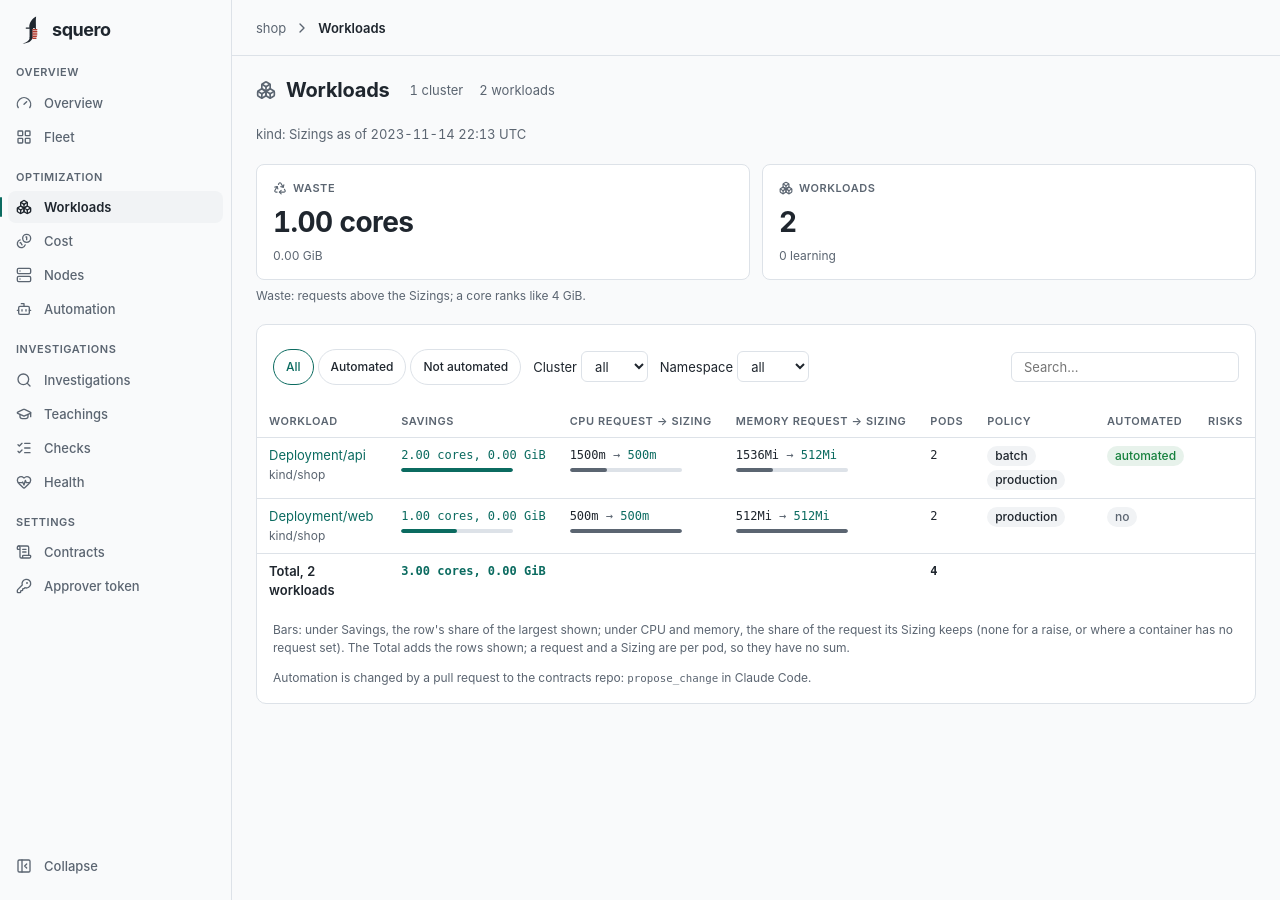
Scenario: the table shows request → Sizing, the policies and Automation; chips and search filter it
expect the button "Deployment/api" is shown: met, box [269, 446, 366, 466]
expect the cell "no" is shown: met, box [1095, 499, 1196, 552]
Click the button "Not automated" at (466, 366), box [410, 348, 521, 384]
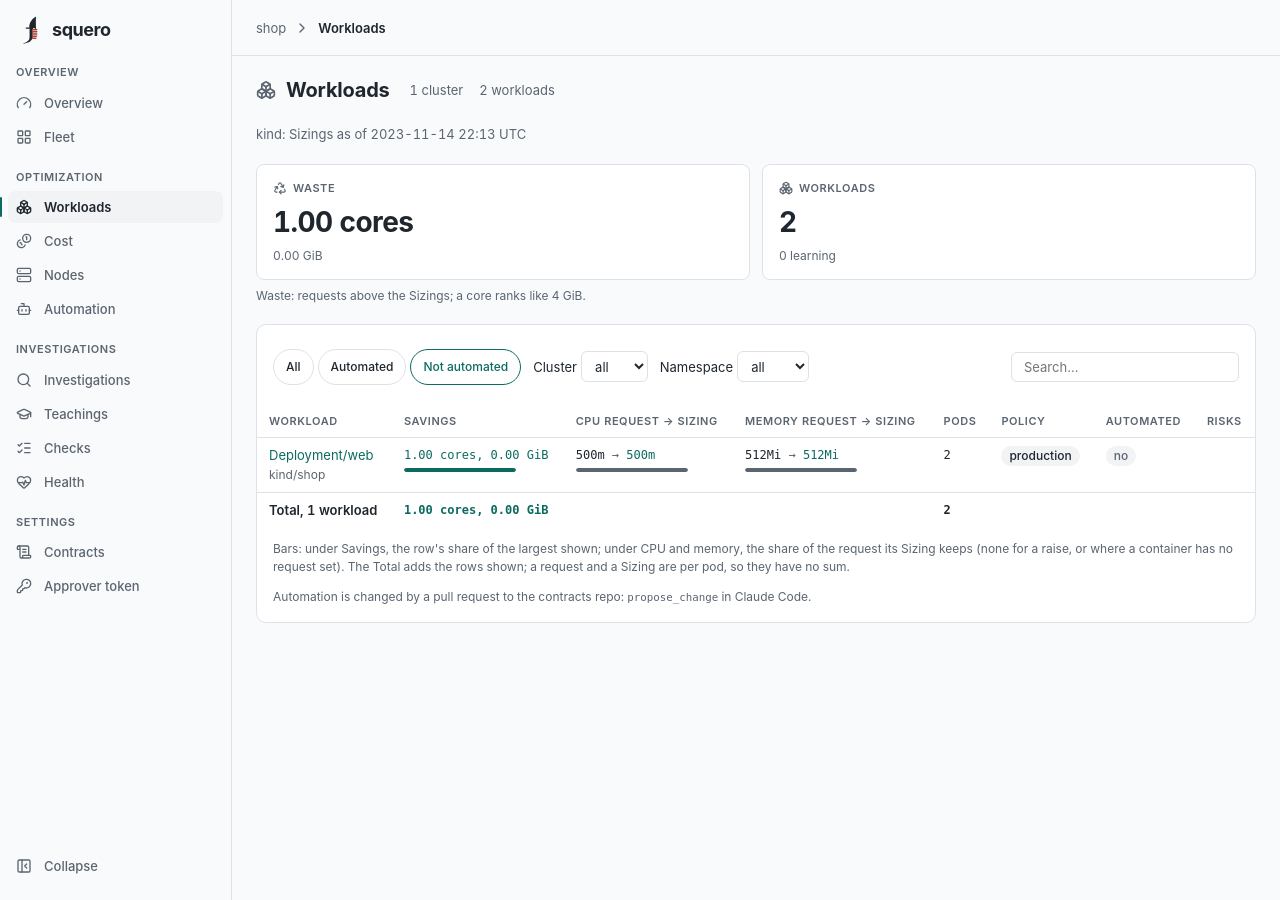
expect the button "Deployment/api" is gone: met
Click the button "Automated" at (362, 366), box [318, 348, 406, 384]
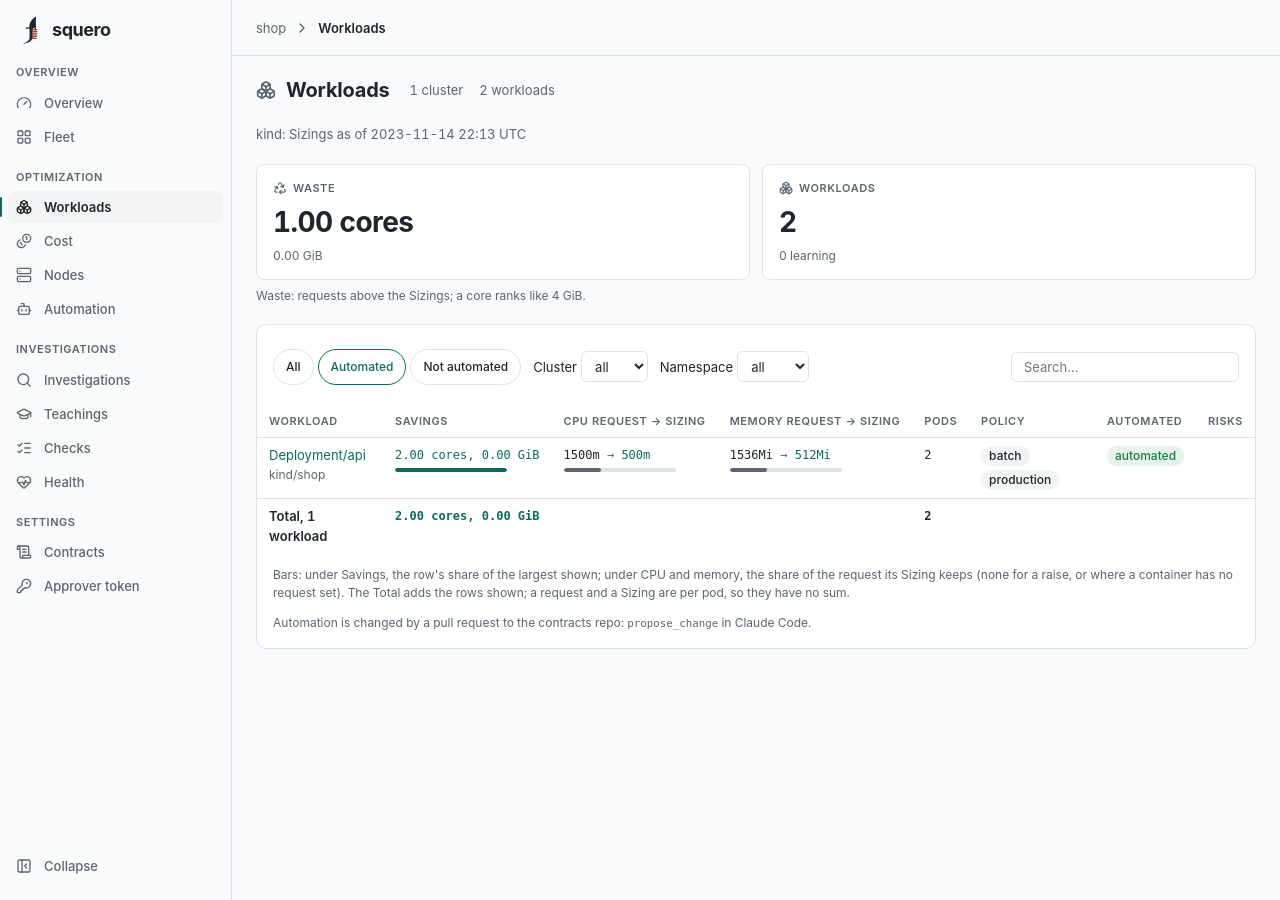
expect the button "Deployment/web" is gone: met
Click the button "All" at (293, 366), box [273, 348, 314, 384]
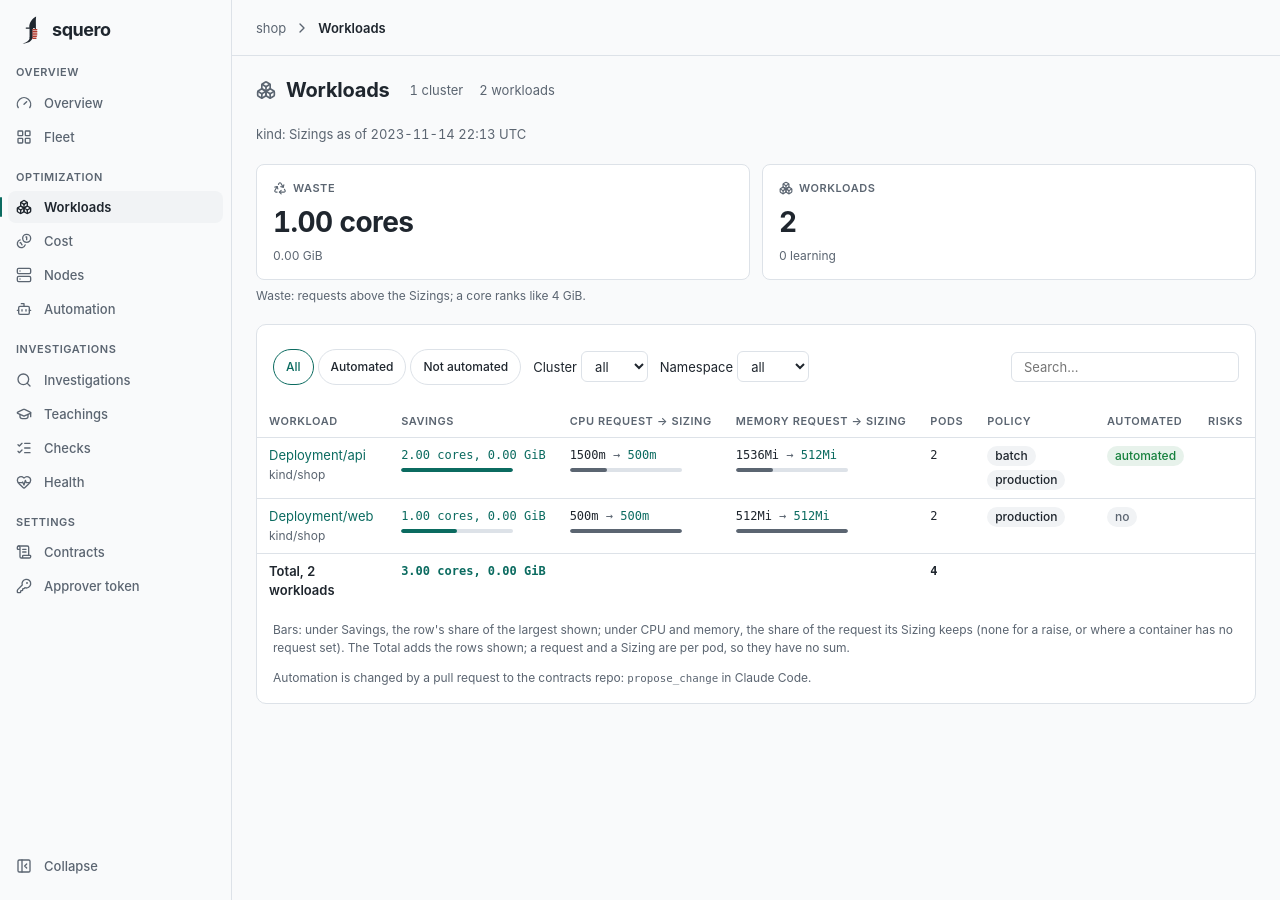
Type "WEB" into the search field named "Search Workloads" at (1125, 366), box [1011, 352, 1239, 382]
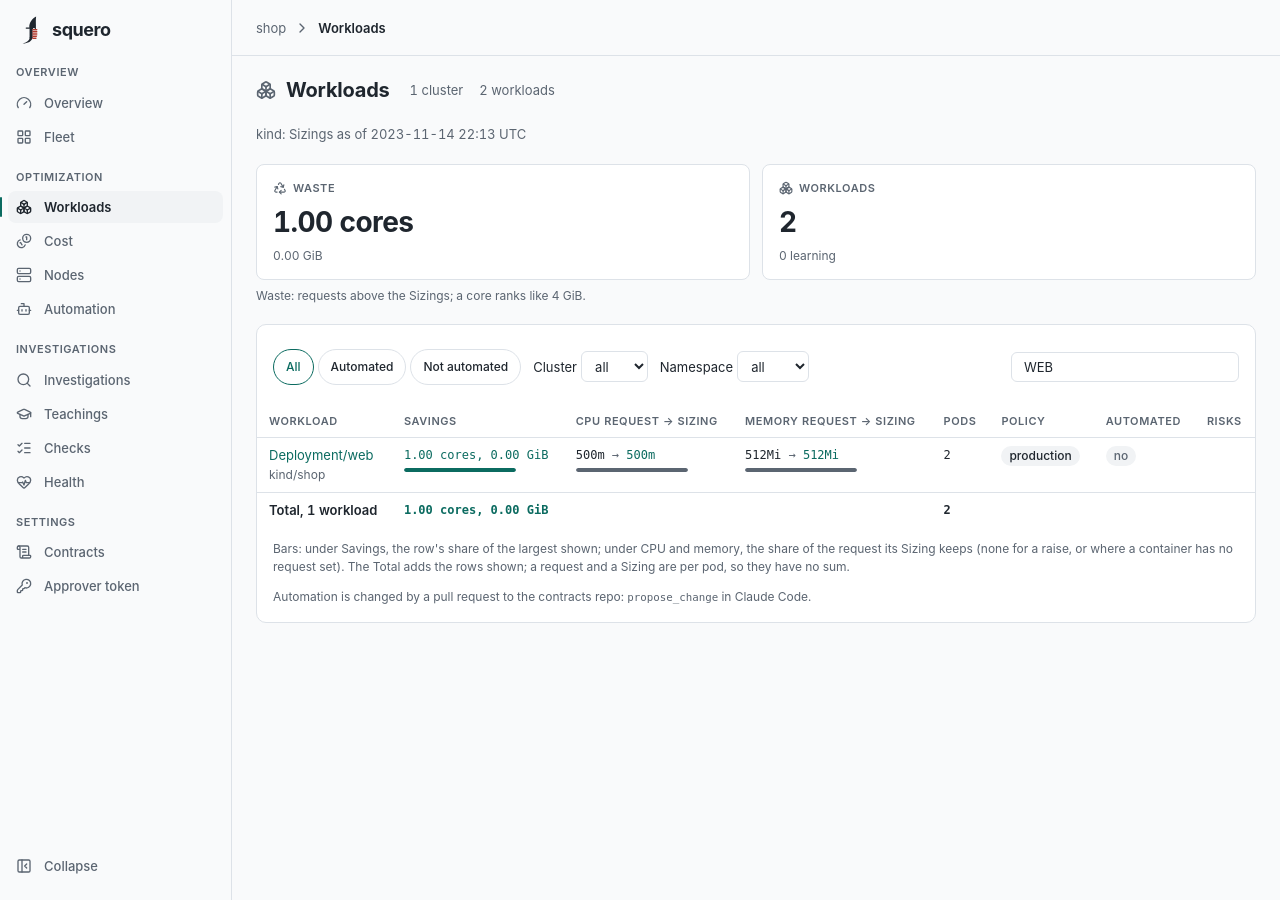
Replace the text in the search field named "Search Workloads" with "nothing" at (1125, 366), box [1011, 352, 1239, 382]
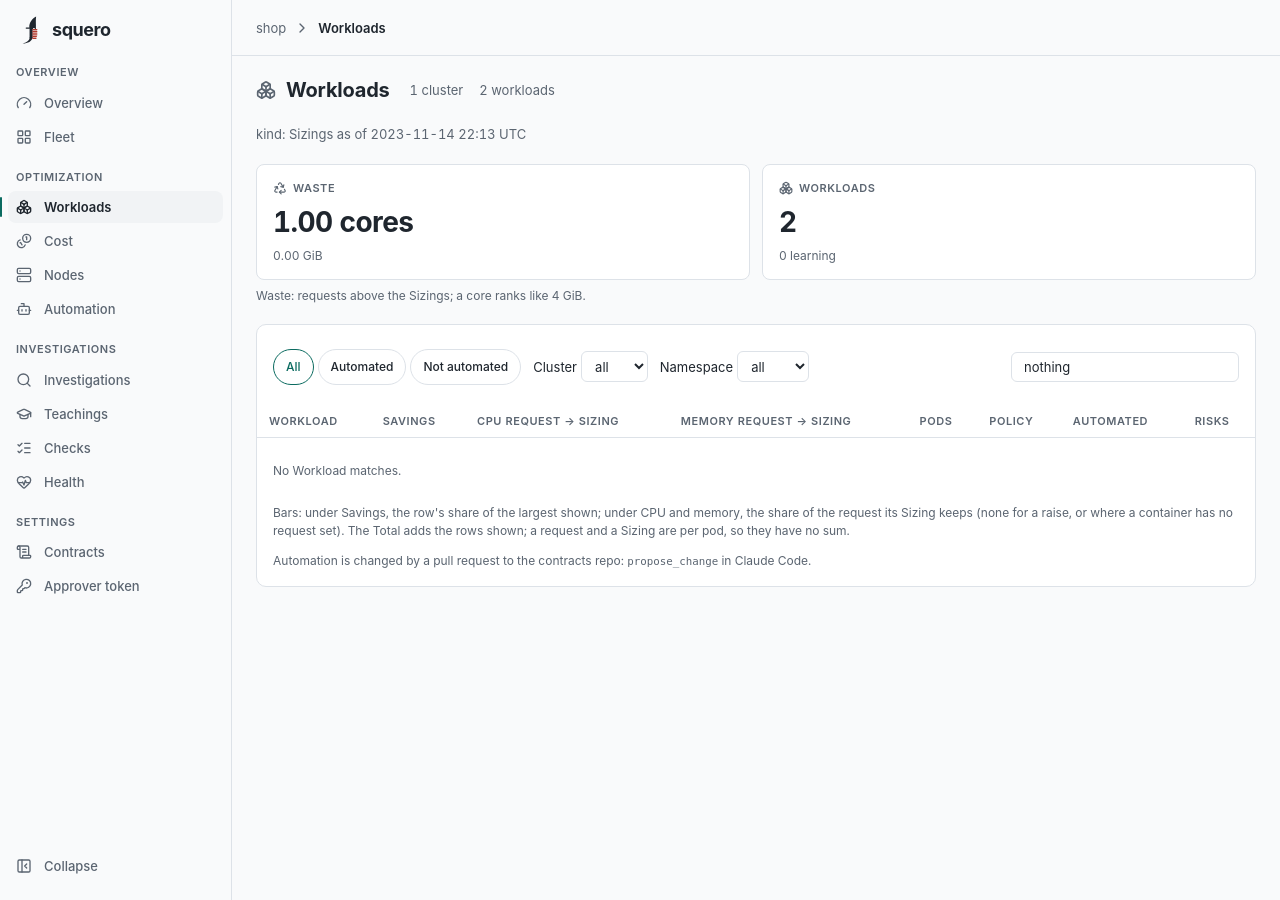
expect the text "Automation is changed by a pull request" is shown: met, box [273, 553, 627, 568]
expect the text "No Workload matches." is shown: met, box [273, 463, 401, 478]
